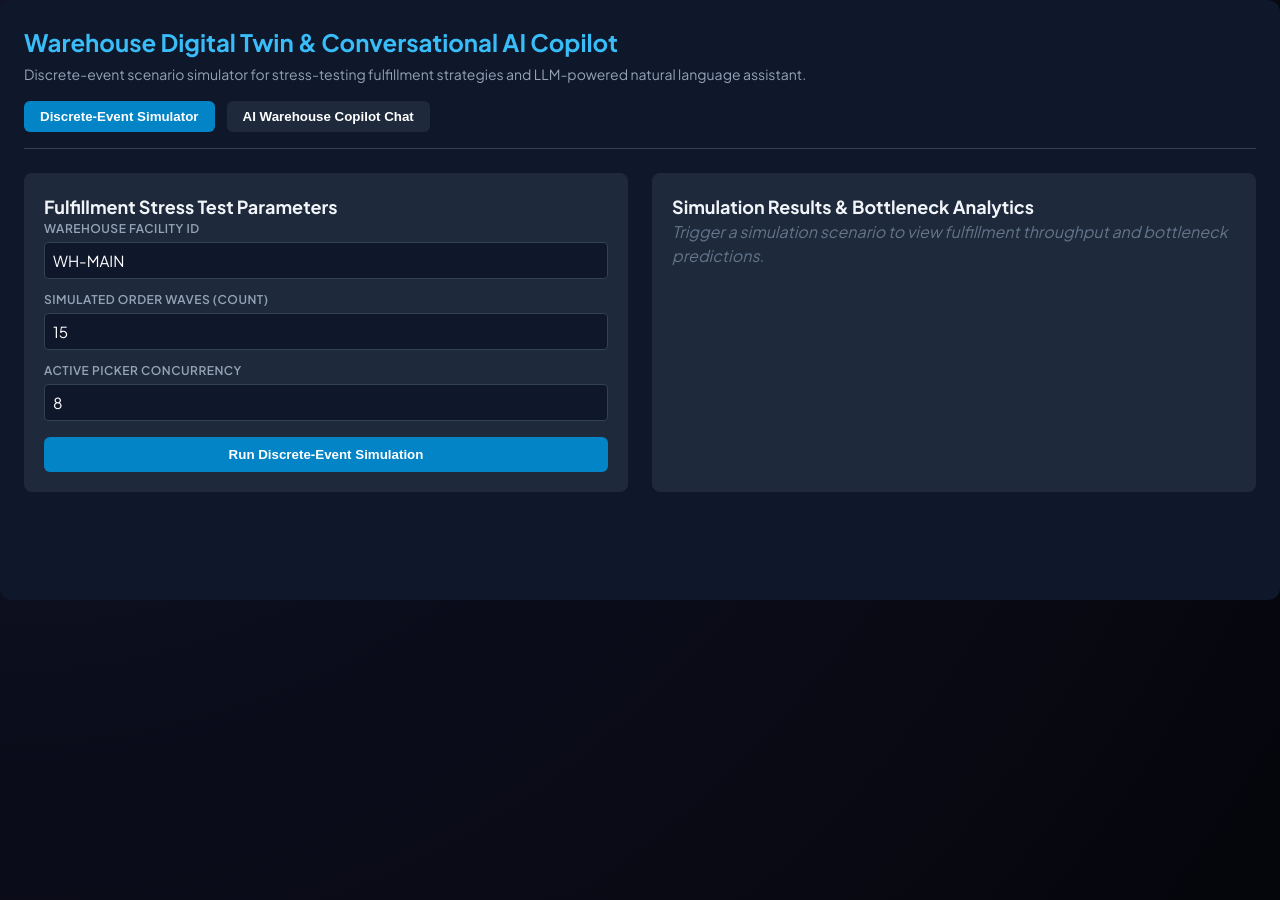
Scenario: DigitalTwinCopilotPanel › runs discrete-event simulation via fetch
The image size is (1280, 900).
# Update inputs
Replace the text in the field showing "WH-MAIN" with "WH-TEST" at (326, 260), box [44, 242, 608, 279]
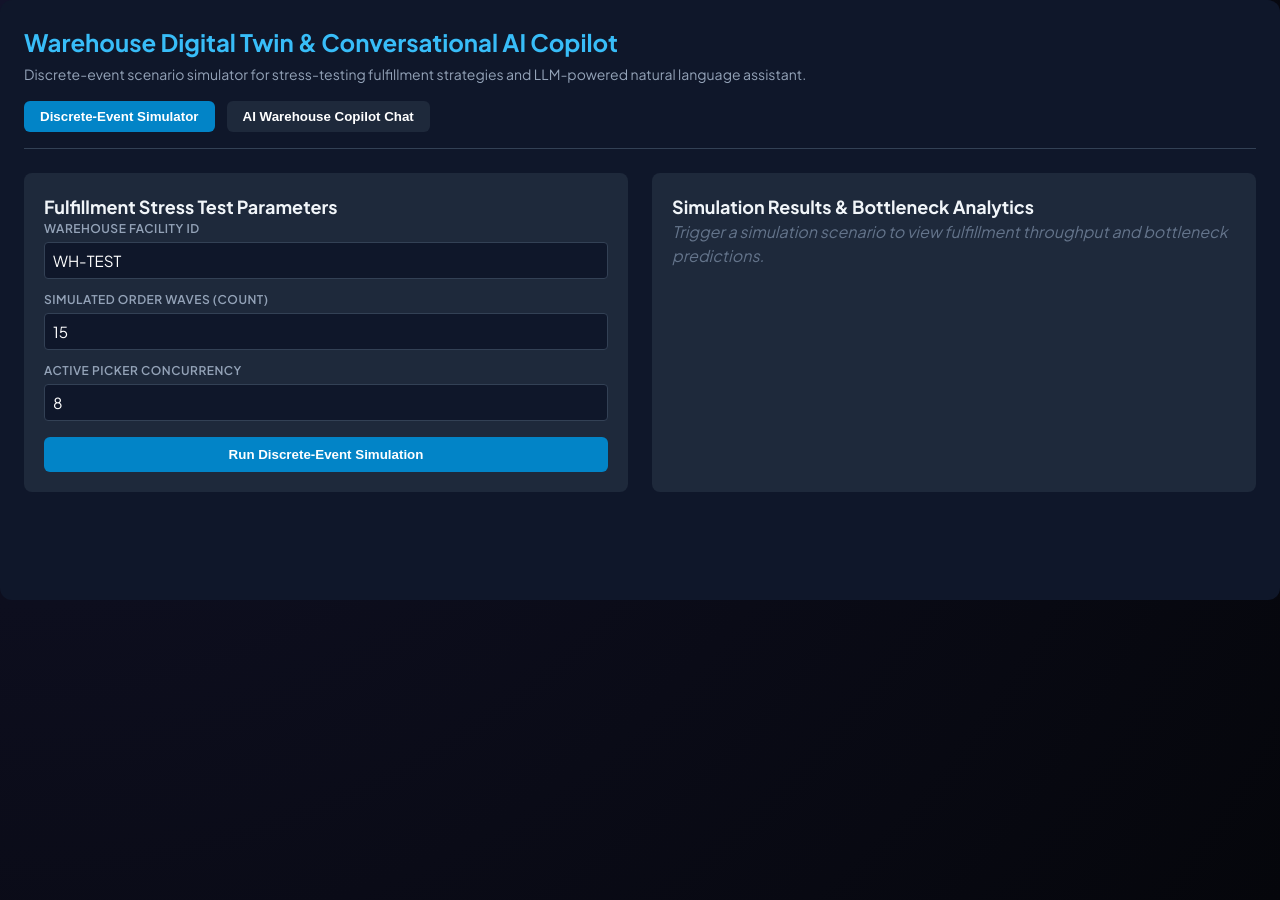
Replace the text in the number field showing "15" with "20" at (326, 332), box [44, 313, 608, 350]
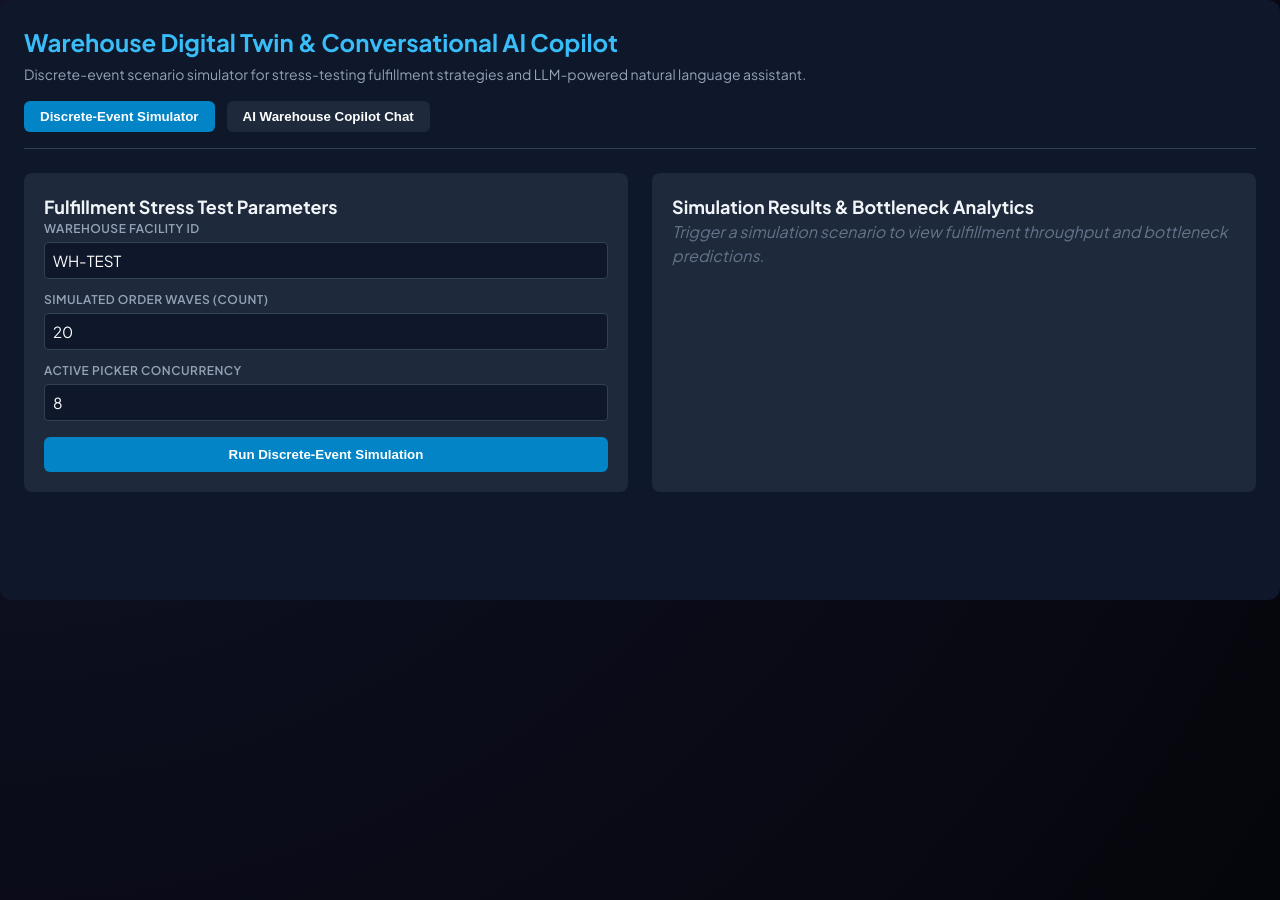
# Run simulation
Click the button "Run Discrete-Event Simulation" at (326, 454), box [44, 437, 608, 472]
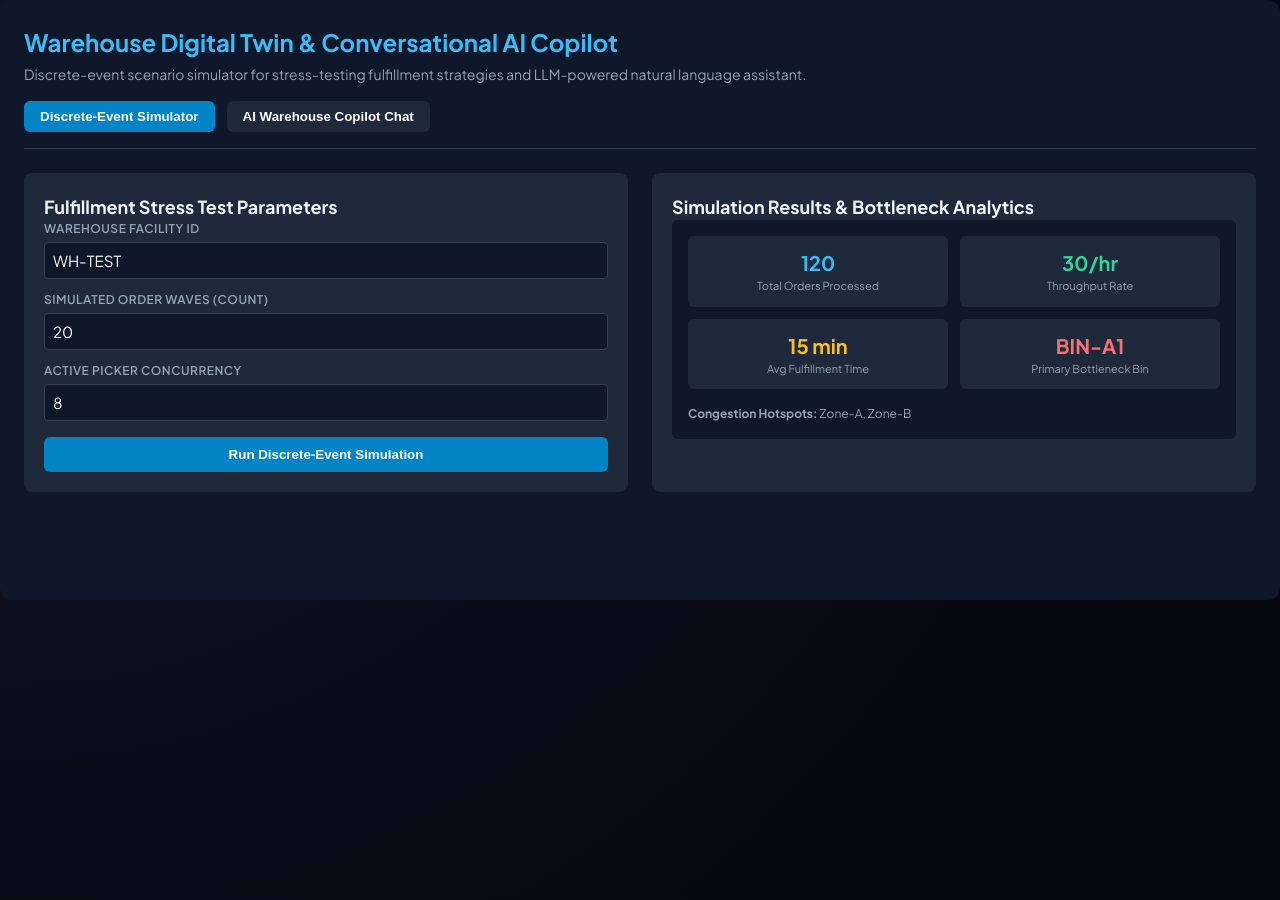
Check: the text "120" is shown, box [801, 250, 835, 275]
Check: the text "30/hr" is shown, box [1062, 250, 1118, 275]
Check: the text "15 min" is shown, box [788, 332, 848, 358]
